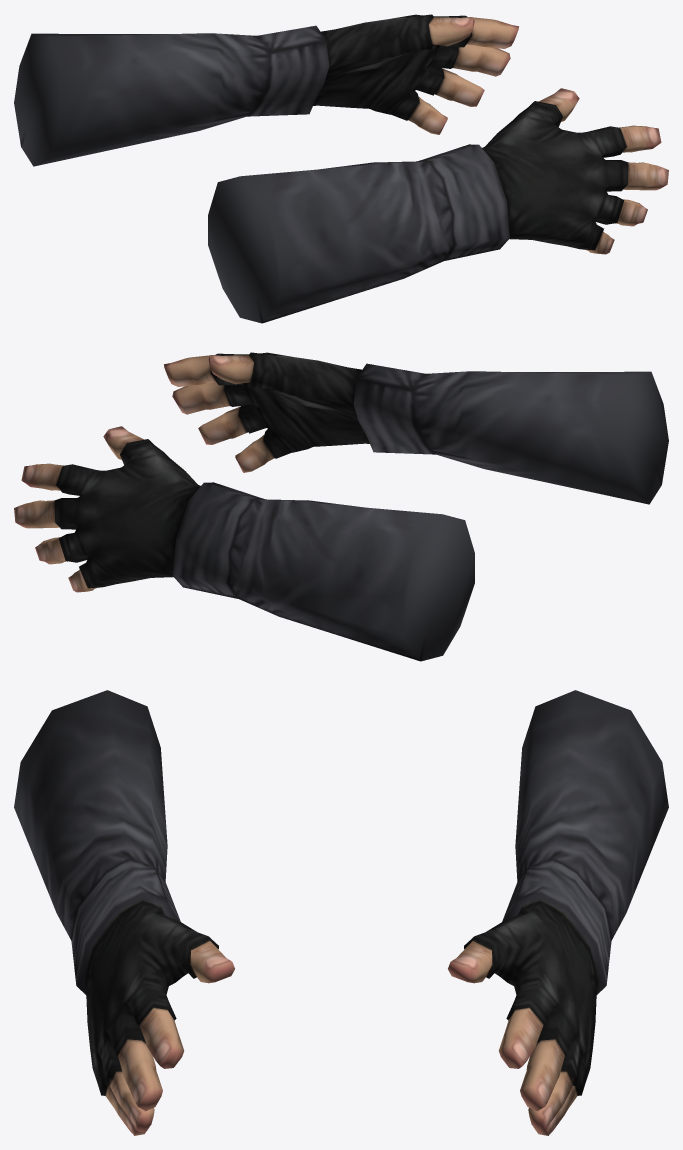
Rendered from arms.fbx.
3 views of the same model, one above another, from view 1: azimuth 30°, elevation 25°; view 2: azimuth 150°, elevation 25°; view 3: azimuth 270°, elevation 25° (orthographic). The views are drawn at different scales.
Visible parts, largest first — view 1: Object_7; view 2: Object_7; view 3: Object_7.
Boxes of the visible parts, x1,y1,x2,y2 form: Object_7: (14,14,668,323); Object_7: (14,352,668,661); Object_7: (14,690,668,1135).
Size of the model in its own units: 0.4175 by 0.1563 by 0.4225.
